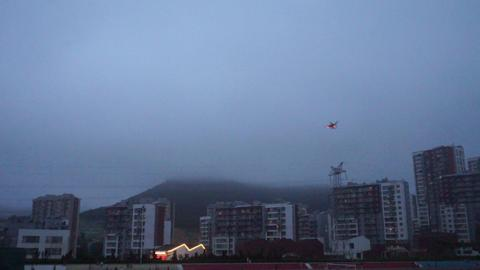UAV: (326, 122, 338, 130)
